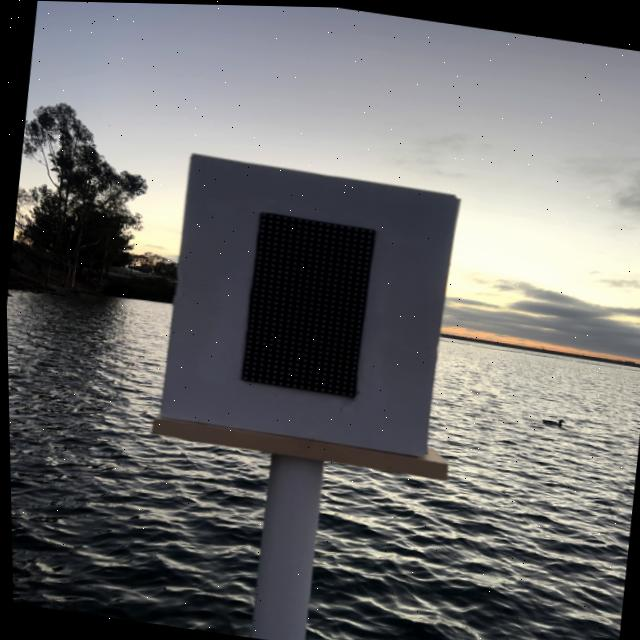led: (178, 172, 421, 444)
